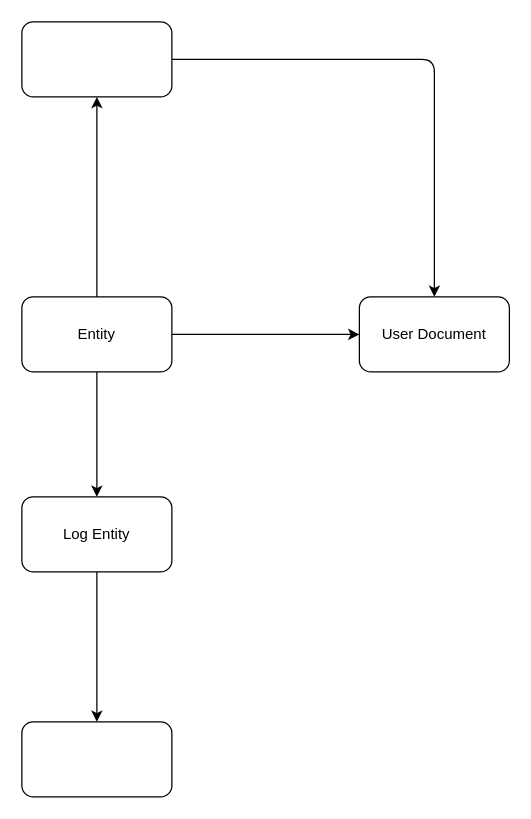
Image size: 531x819. Some labels were removed from this diagram. Here are the shapes that lost their labels. From the top down, the box of each, then its label:
(21, 21, 172, 97): State
(21, 721, 172, 797): Log Document
